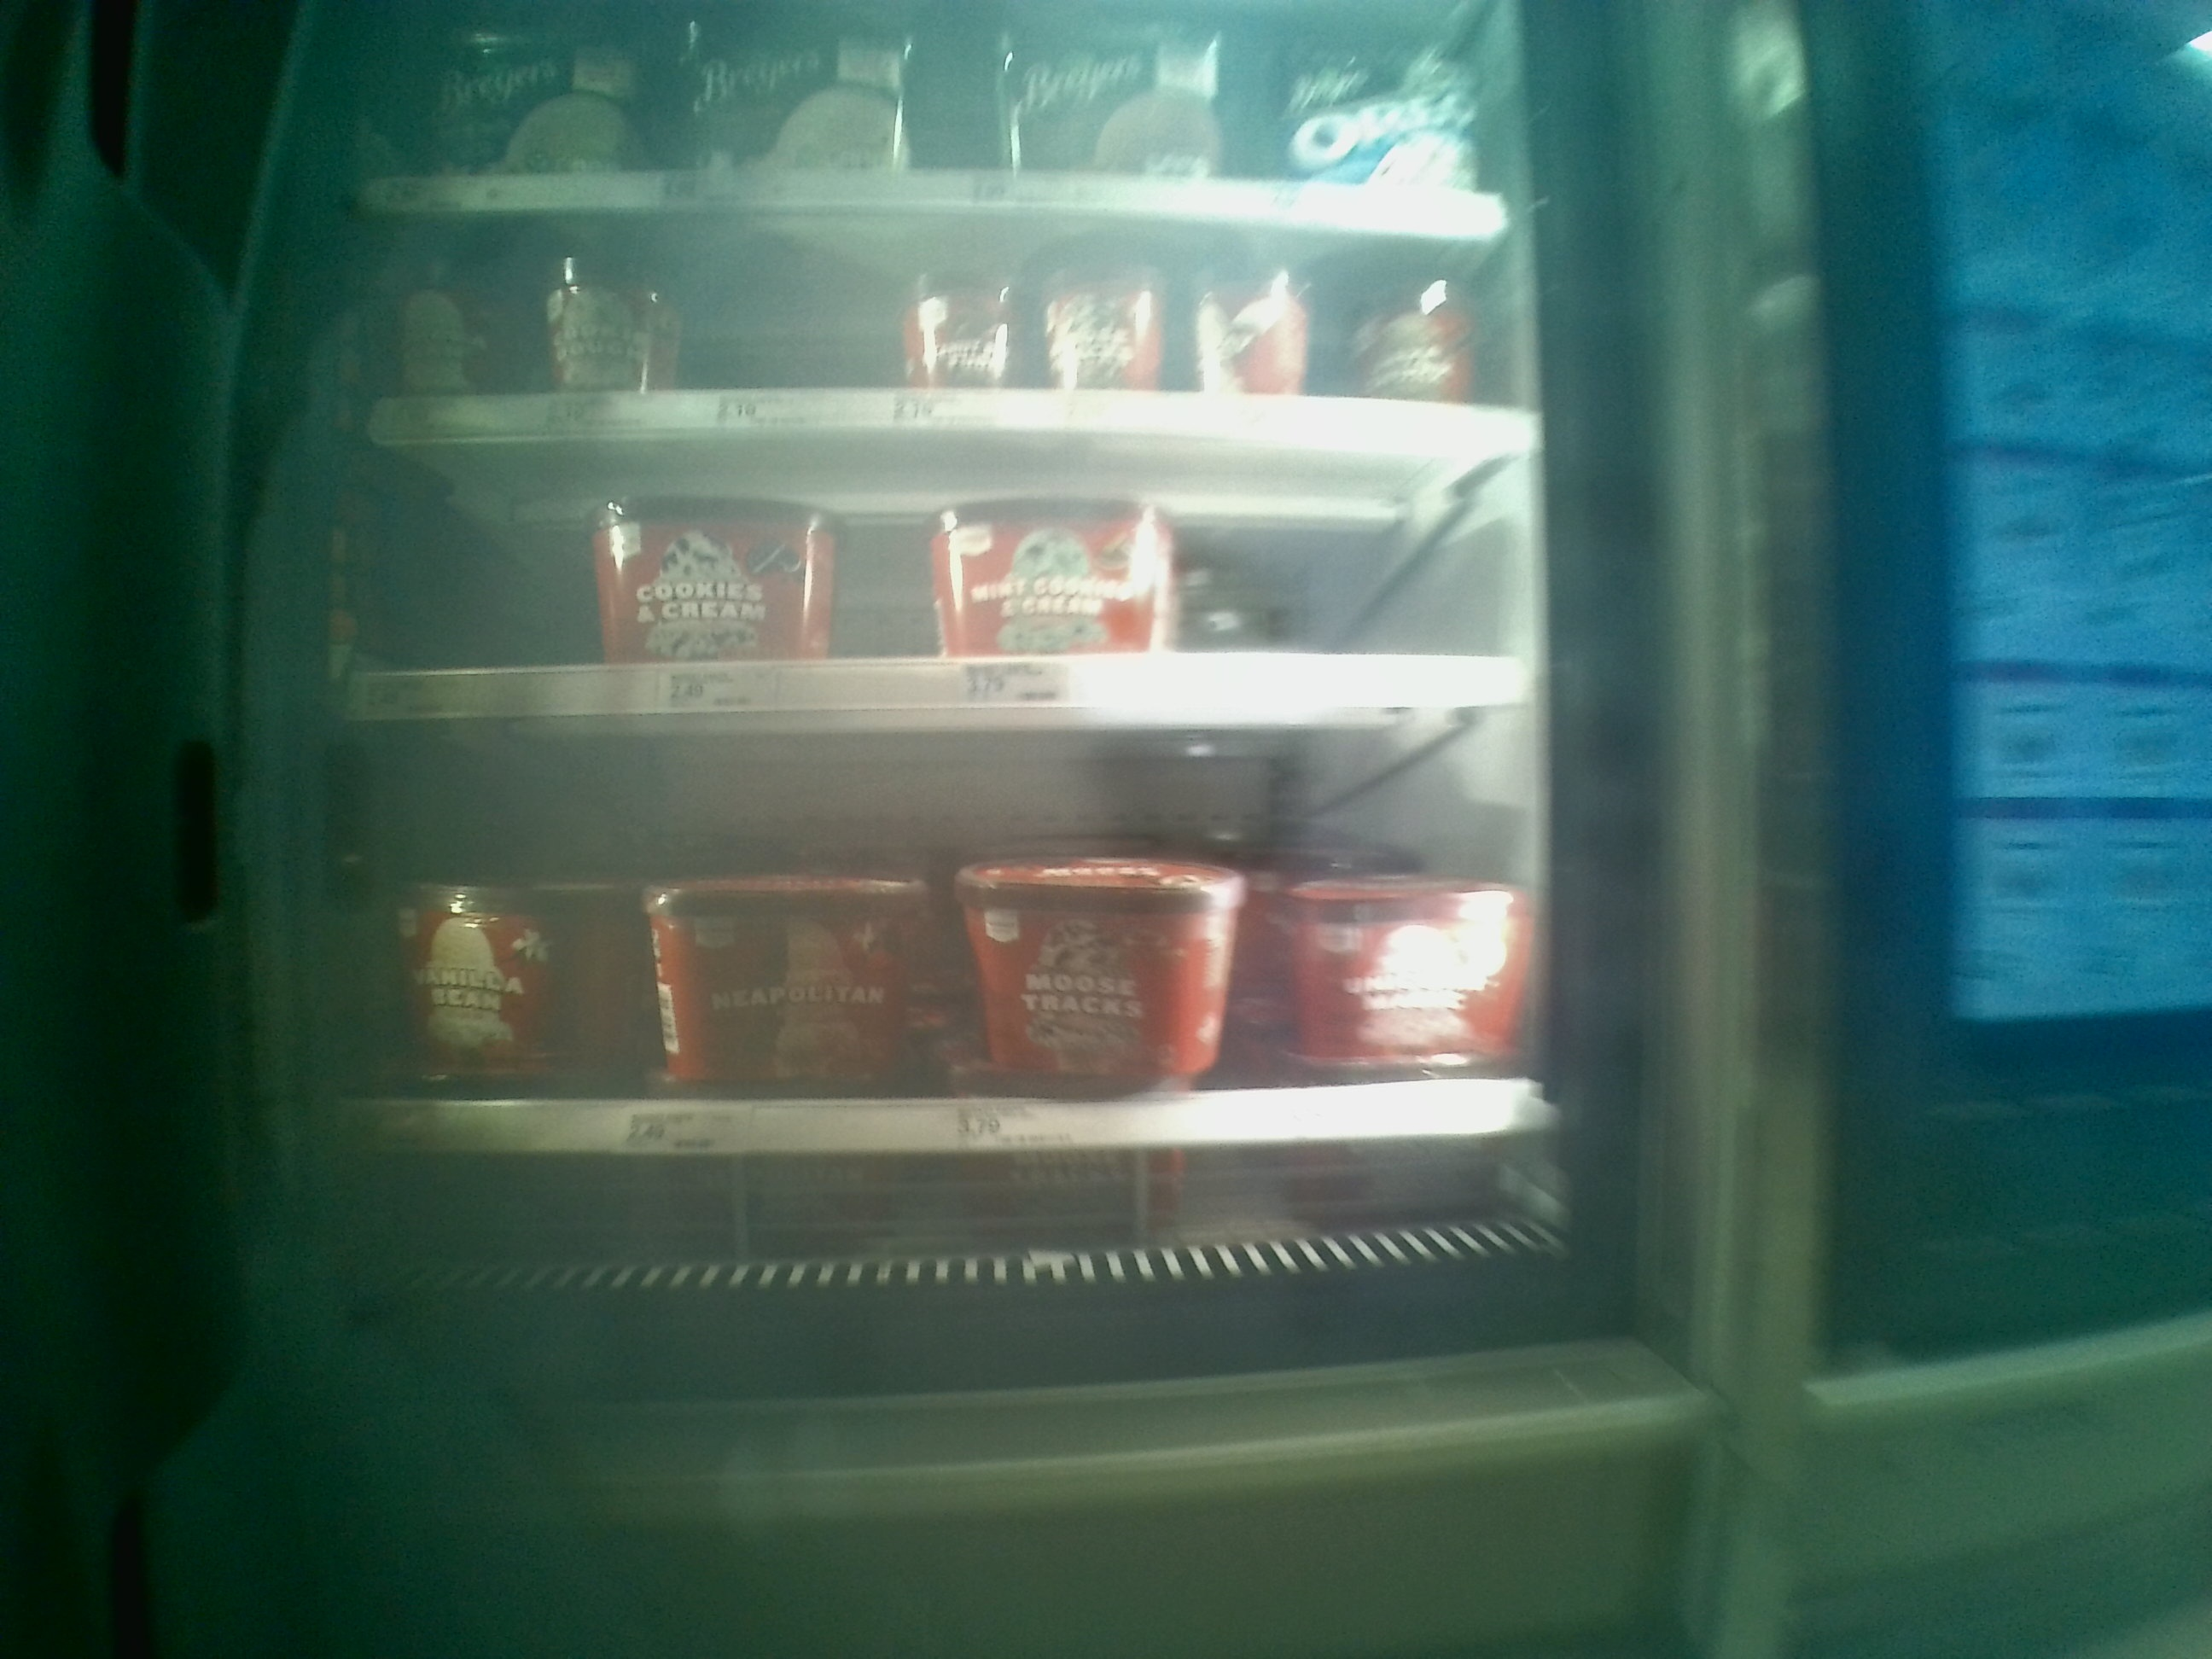ice-cream-shelf: (343, 718, 1548, 1143)
